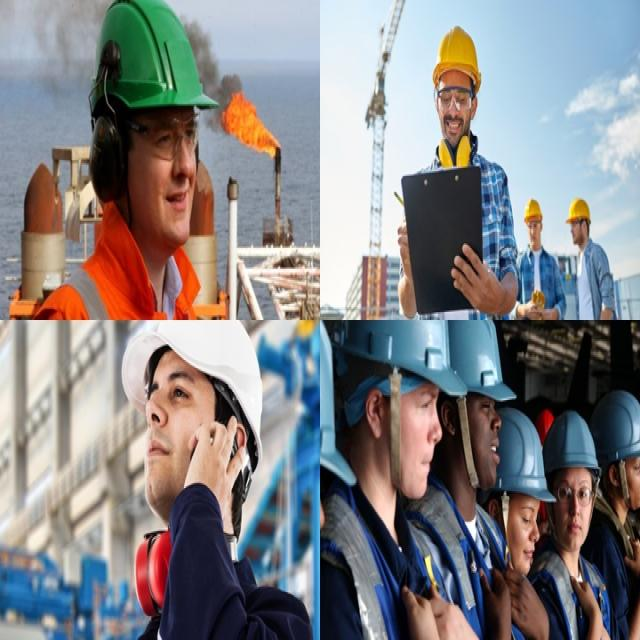glasses: (130, 111, 201, 164), (433, 85, 474, 116)
